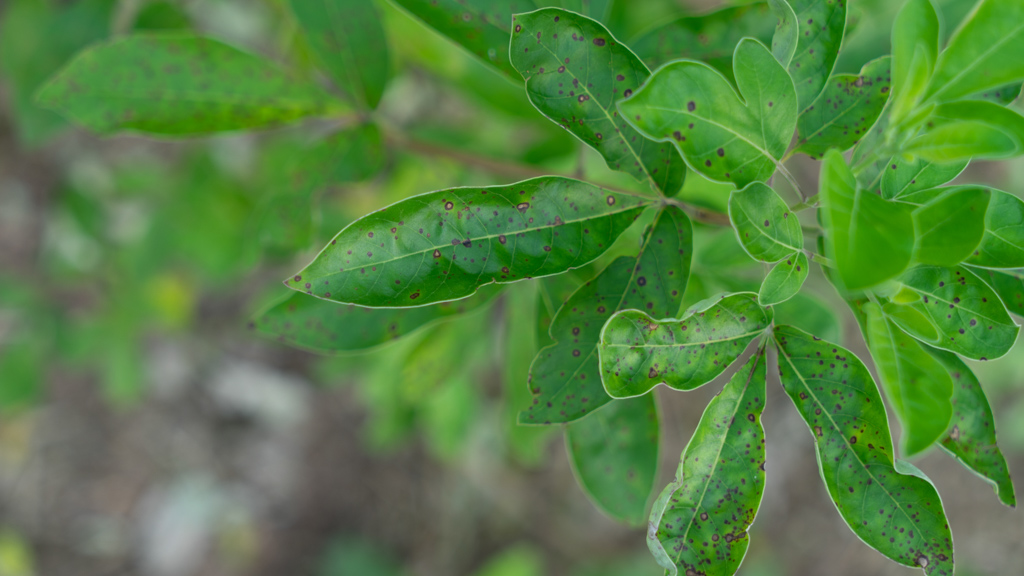Alternaria brassicicola: (283, 177, 622, 313), (781, 319, 956, 570), (514, 205, 696, 429), (508, 7, 675, 187), (597, 285, 780, 405), (668, 344, 754, 574), (645, 80, 750, 190), (896, 270, 1018, 359), (794, 71, 898, 157), (725, 192, 806, 284)
